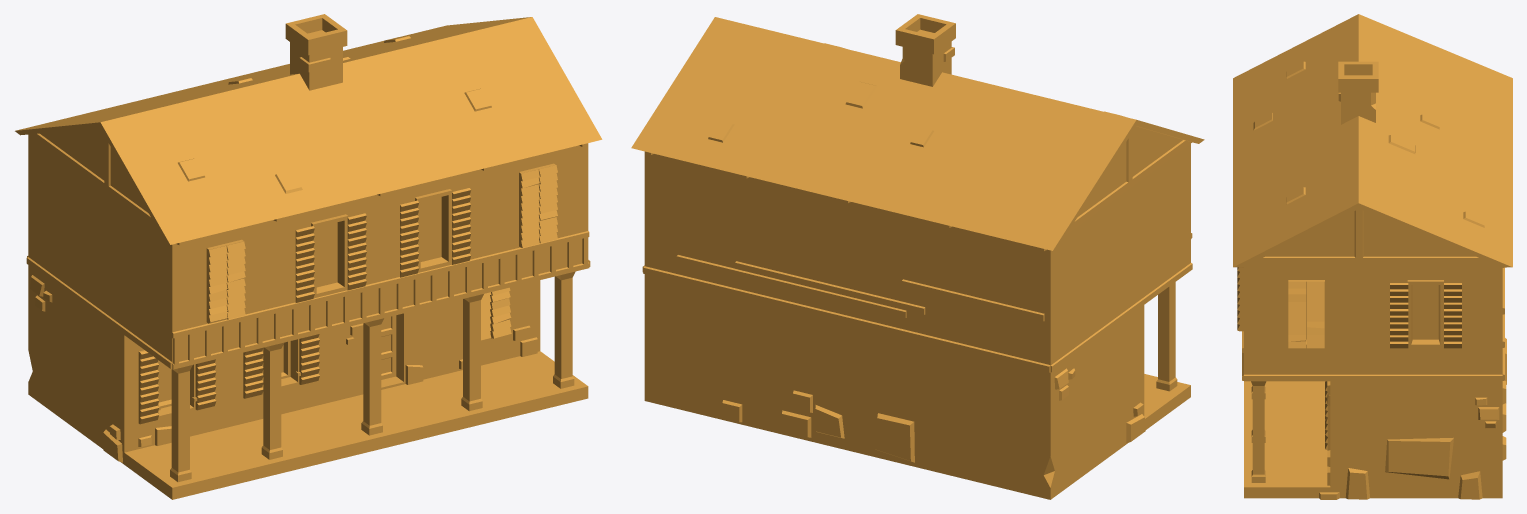
File: house-pirate-medium.fbx
The picture shows the model from 3 angles, left to right: view 1: azimuth 30°, elevation 25°; view 2: azimuth 150°, elevation 25°; view 3: azimuth 270°, elevation 25°; orthographic projection. The views are drawn at different scales.
Parts seen in each view (by area): view 1: house-pirate-medium; view 2: house-pirate-medium; view 3: house-pirate-medium.
Boxes of the visible parts, <box> form: house-pirate-medium: <box>15,14,602,499</box>; house-pirate-medium: <box>631,14,1204,499</box>; house-pirate-medium: <box>1233,14,1512,499</box>.
Bounding box in the file's own units: 10.39 × 8.62 × 6.49.
